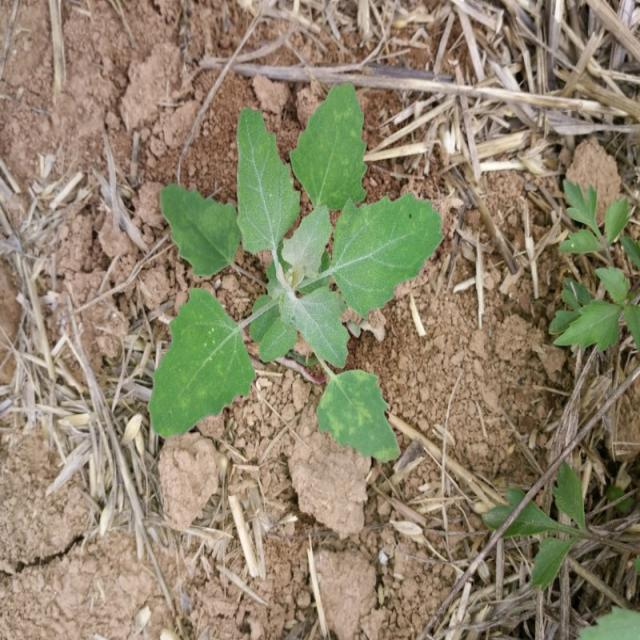ca: (147, 86, 448, 460)
